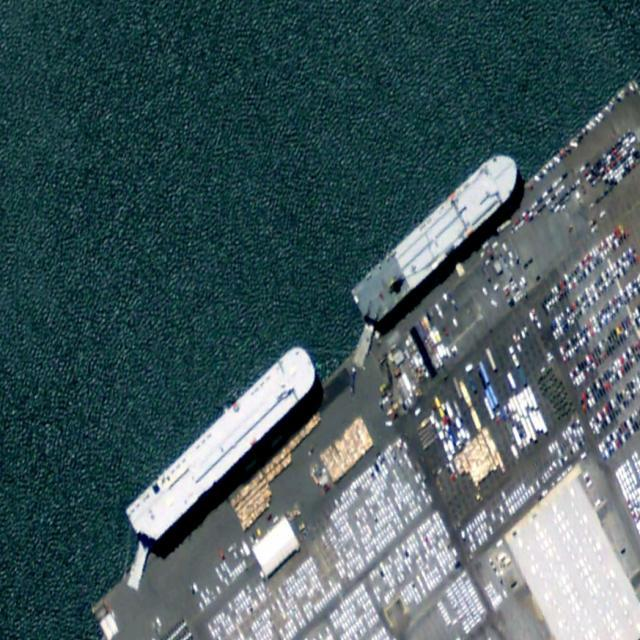RoRo: (122, 336, 323, 553), (348, 139, 528, 333)
